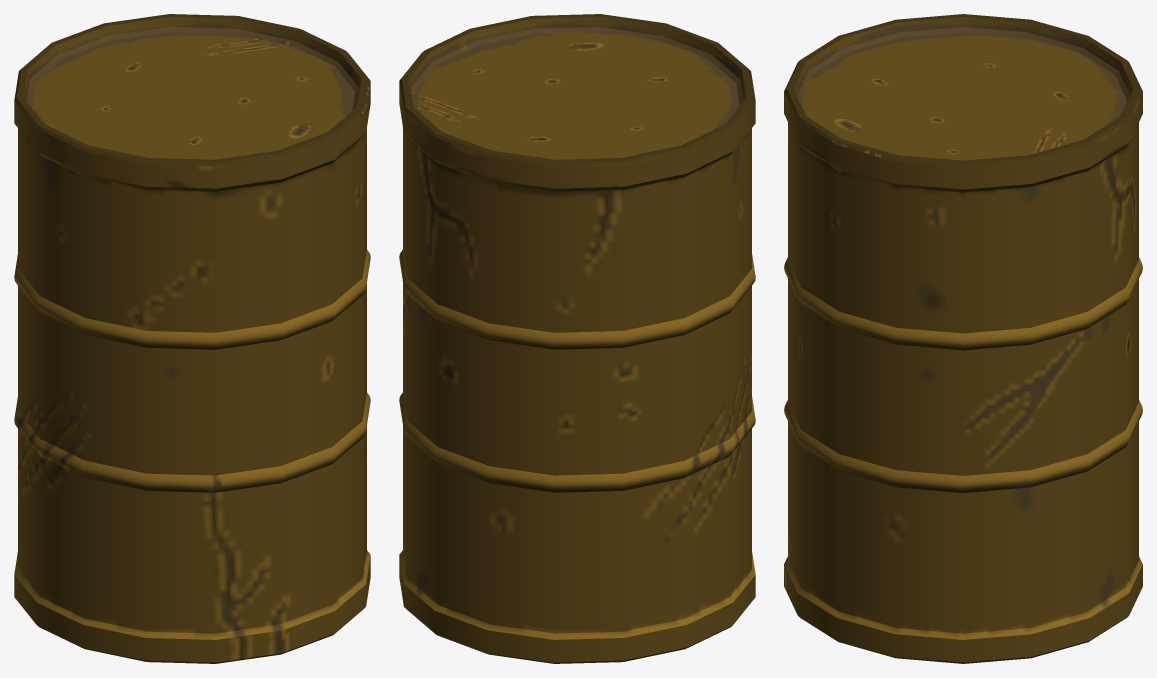
File: StandIn_BarrelObstacle.fbx
3 views of the same model, side by side, from view 1: azimuth 30°, elevation 25°; view 2: azimuth 150°, elevation 25°; view 3: azimuth 270°, elevation 25° (orthographic).
Parts seen in each view (by area): view 1: Barrel; view 2: Barrel; view 3: Barrel.
Boxes of the visible parts, box(x1,y1,x2,y2) form: Barrel: box(14, 14, 370, 663); Barrel: box(399, 14, 755, 663); Barrel: box(784, 14, 1142, 663).
Size of the model in its own units: 65 by 100 by 65.
